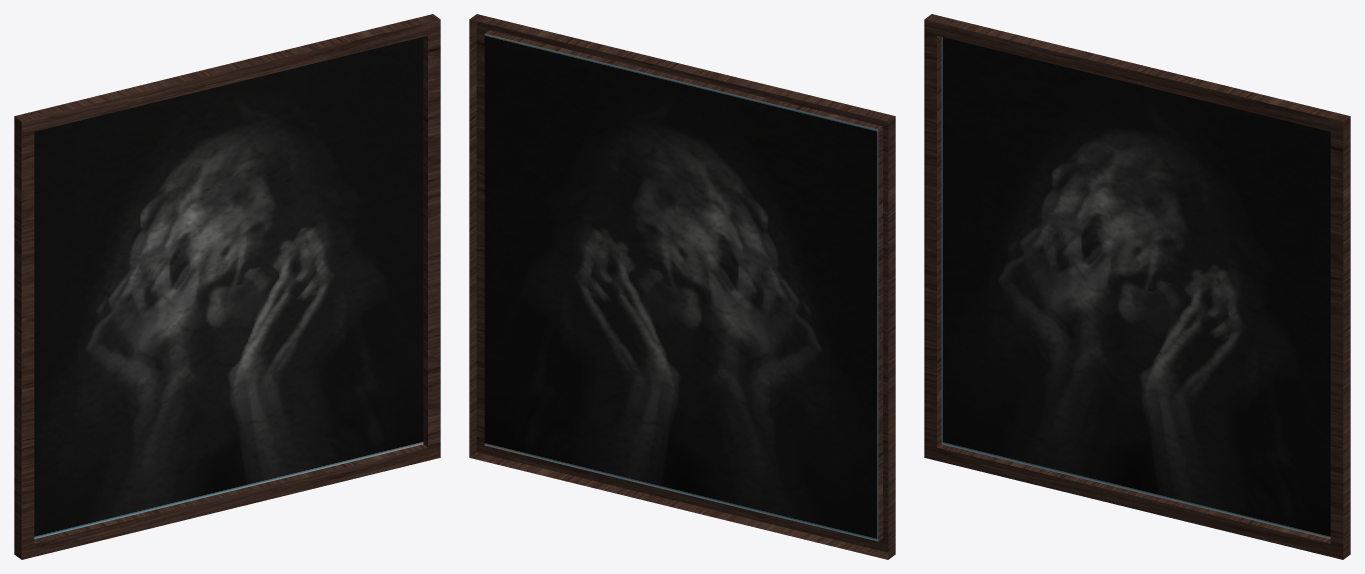
The model's file is Tableau9.fbx.
3 views of the same model, side by side, from view 1: azimuth 30°, elevation 25°; view 2: azimuth 150°, elevation 25°; view 3: azimuth 330°, elevation 25° (orthographic).
Parts seen in each view (by area): view 1: Asset_Tbleau_B_low2; view 2: Asset_Tbleau_B_low2; view 3: Asset_Tbleau_B_low2.
Boxes of the visible parts, bbox=[...] form: Asset_Tbleau_B_low2: bbox=[14, 14, 440, 559]; Asset_Tbleau_B_low2: bbox=[469, 14, 895, 559]; Asset_Tbleau_B_low2: bbox=[924, 14, 1350, 559].
Bounding box in the file's own units: 51.53 × 51.53 × 1.59.
Materials: 1 (1 with a texture image).
